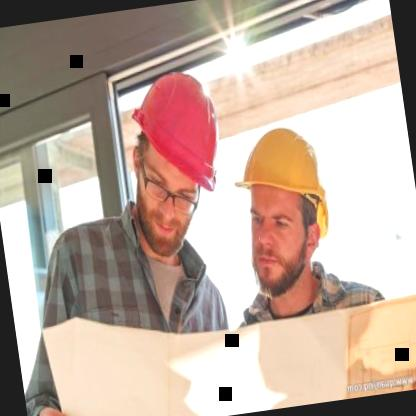helmet: (106, 52, 249, 262), (218, 102, 352, 303)
